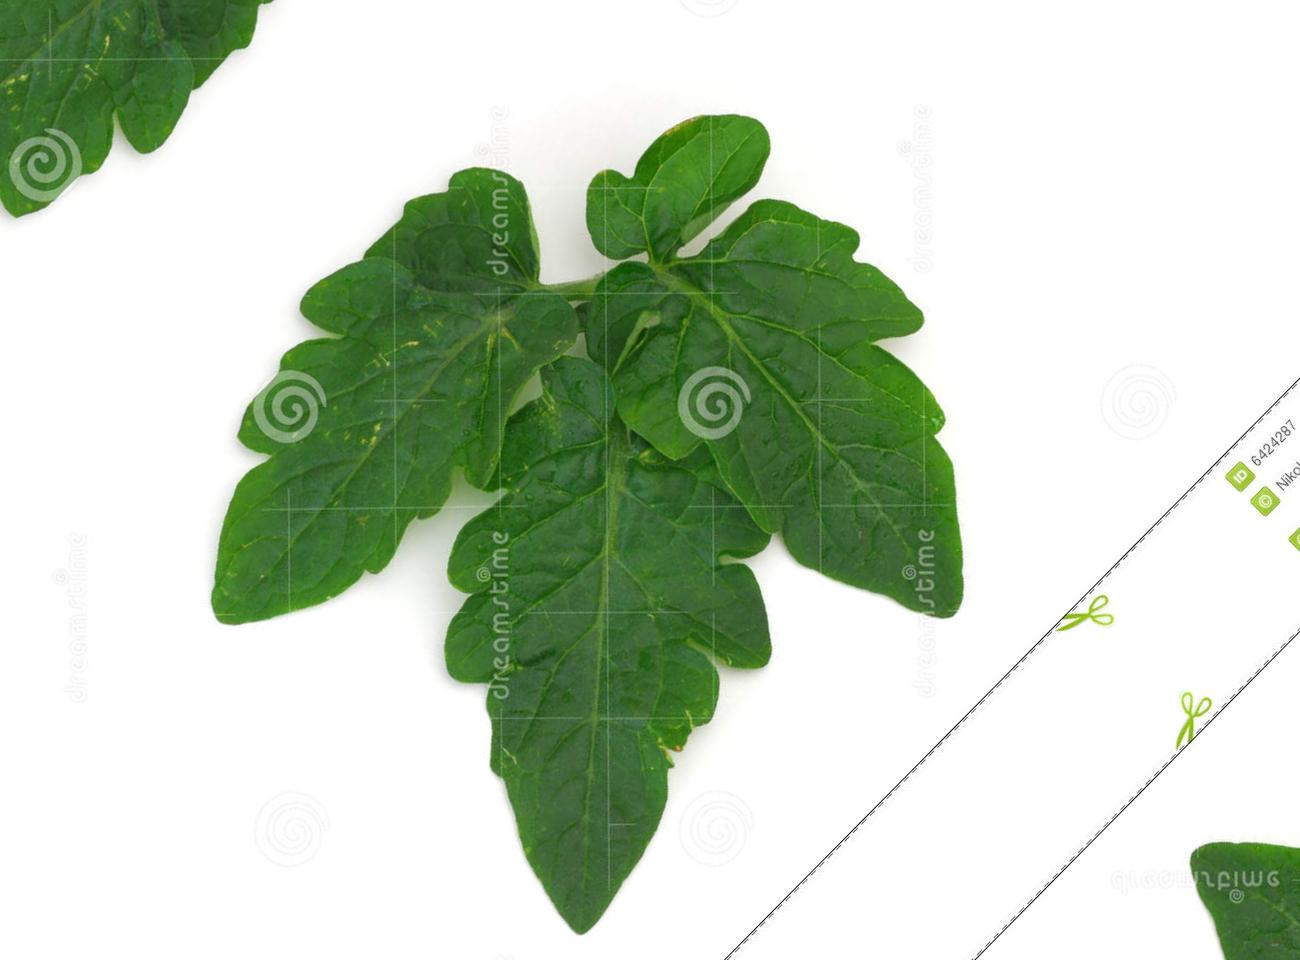Tomato leaf: (251, 250, 963, 960), (131, 43, 746, 659), (536, 142, 1119, 726)
